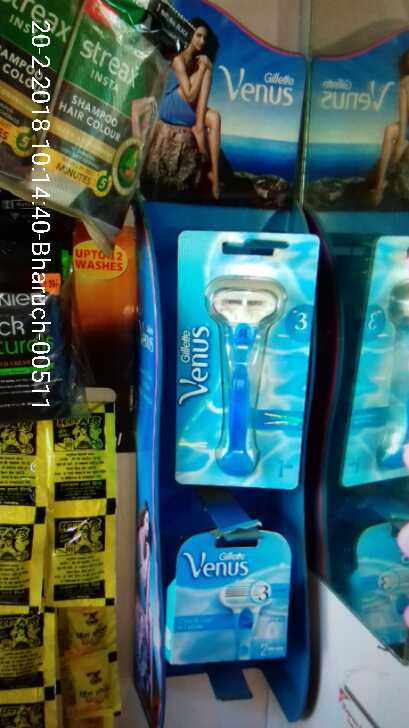venus: (180, 228, 307, 496), (162, 530, 293, 669)
